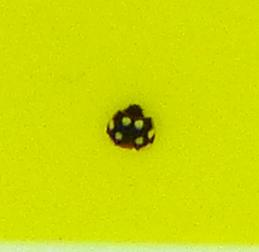Coleoptera: (100, 100, 159, 152)
